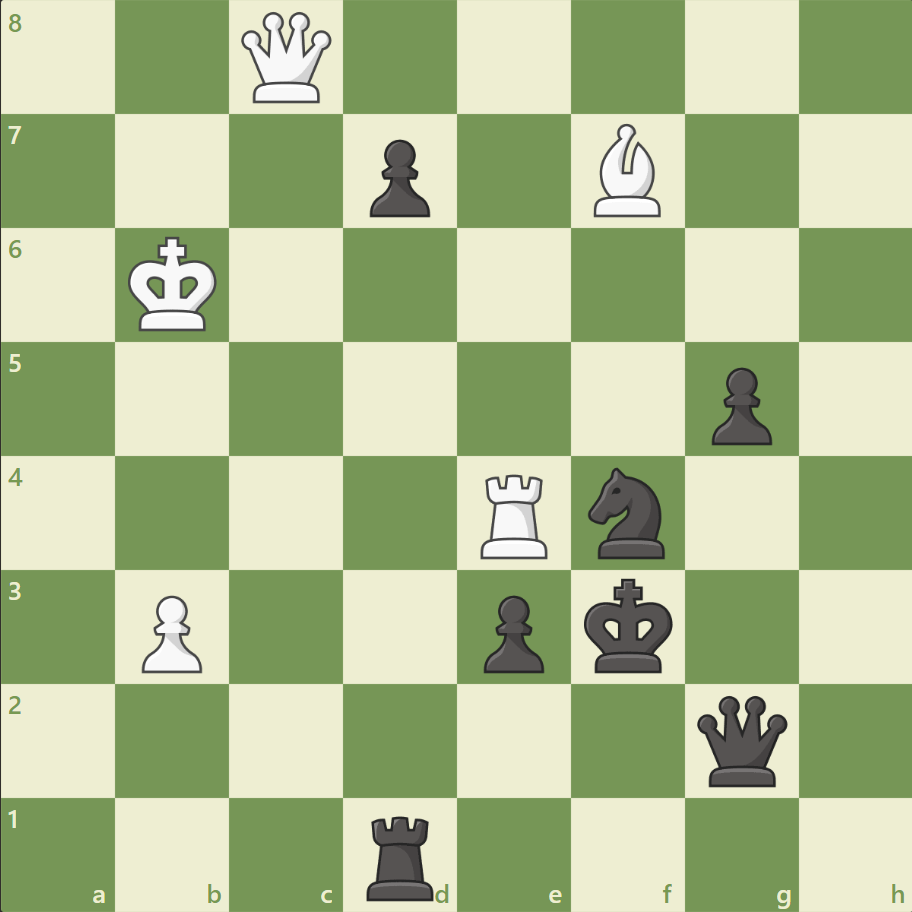B: (585, 120, 669, 222)
K: (124, 231, 224, 339)
P: (133, 586, 208, 677)
Q: (237, 9, 336, 108)
R: (473, 466, 556, 563)
k: (579, 571, 679, 679)
n: (579, 461, 676, 564)
p: (701, 359, 776, 450), (474, 586, 549, 677), (361, 132, 435, 223)
q: (691, 690, 790, 789)
r: (360, 806, 442, 904)
